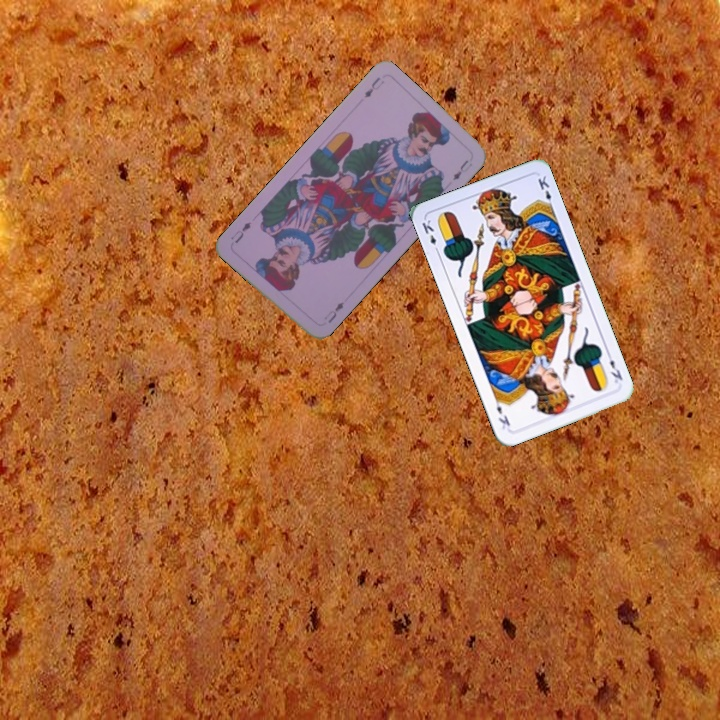EK: (418, 215, 442, 256), (603, 348, 625, 385)
EU: (320, 295, 349, 326), (360, 73, 387, 101)
